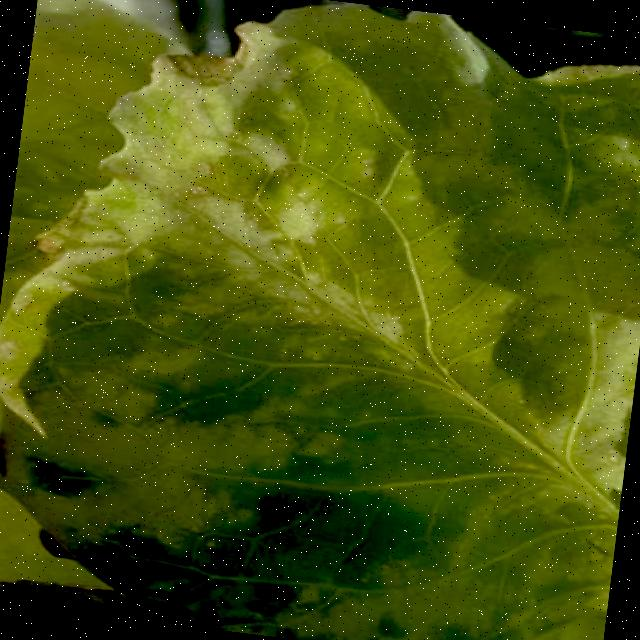Viral: (67, 91, 640, 640)
